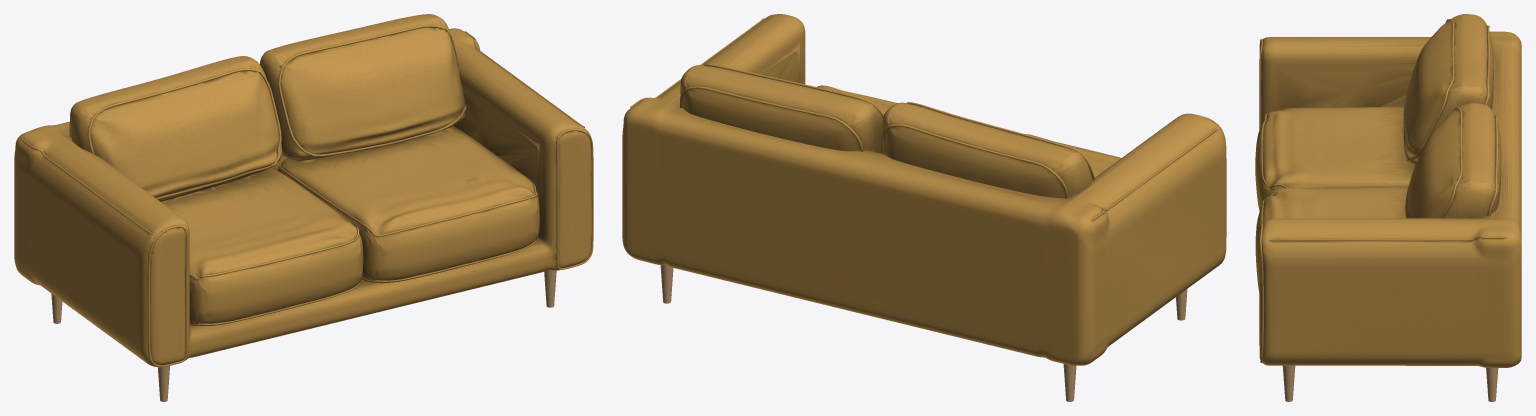
Rendered from pana-mostaza.gltf.
3 renders of one model, left to right at view 1: azimuth 30°, elevation 25°; view 2: azimuth 150°, elevation 25°; view 3: azimuth 270°, elevation 25°, orthographic. The views are drawn at different scales.
Visible parts, largest first — view 1: tela_ar, madera_ar; view 2: tela_ar, madera_ar; view 3: tela_ar, madera_ar.
Part boxes in pixels (x1=…): tela_ar: x1=14, y1=14, x2=593, y2=367; madera_ar: x1=51, y1=270, x2=556, y2=401; tela_ar: x1=622, y1=14, x2=1226, y2=365; madera_ar: x1=660, y1=265, x2=1187, y2=401; tela_ar: x1=1255, y1=14, x2=1521, y2=367; madera_ar: x1=1282, y1=365, x2=1498, y2=401.
Bounding box in the file's own units: 1.7 × 0.8275 × 0.9121.
Materials: 2 (2 with a texture image).
